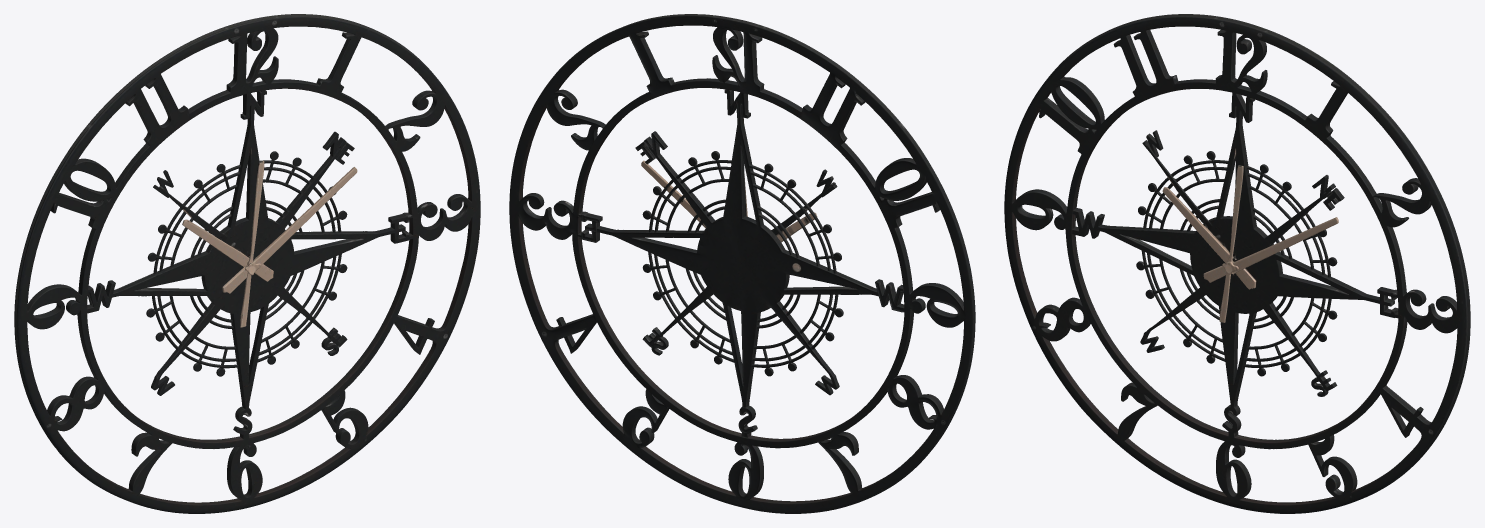
Rendered from Meshy_AI_Compass_Rose_Clock_0926081847_texture.glb.
The picture shows the model from 3 angles, left to right: view 1: azimuth 30°, elevation 25°; view 2: azimuth 150°, elevation 25°; view 3: azimuth 330°, elevation 25°; orthographic projection.
Bounding box in the file's own units: 1.9 × 1.9 × 0.0656.
1 material, 1 textured.
